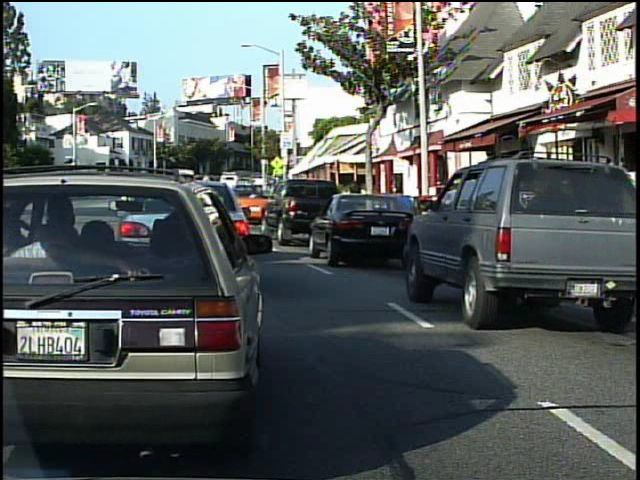person: (588, 148, 623, 236)
